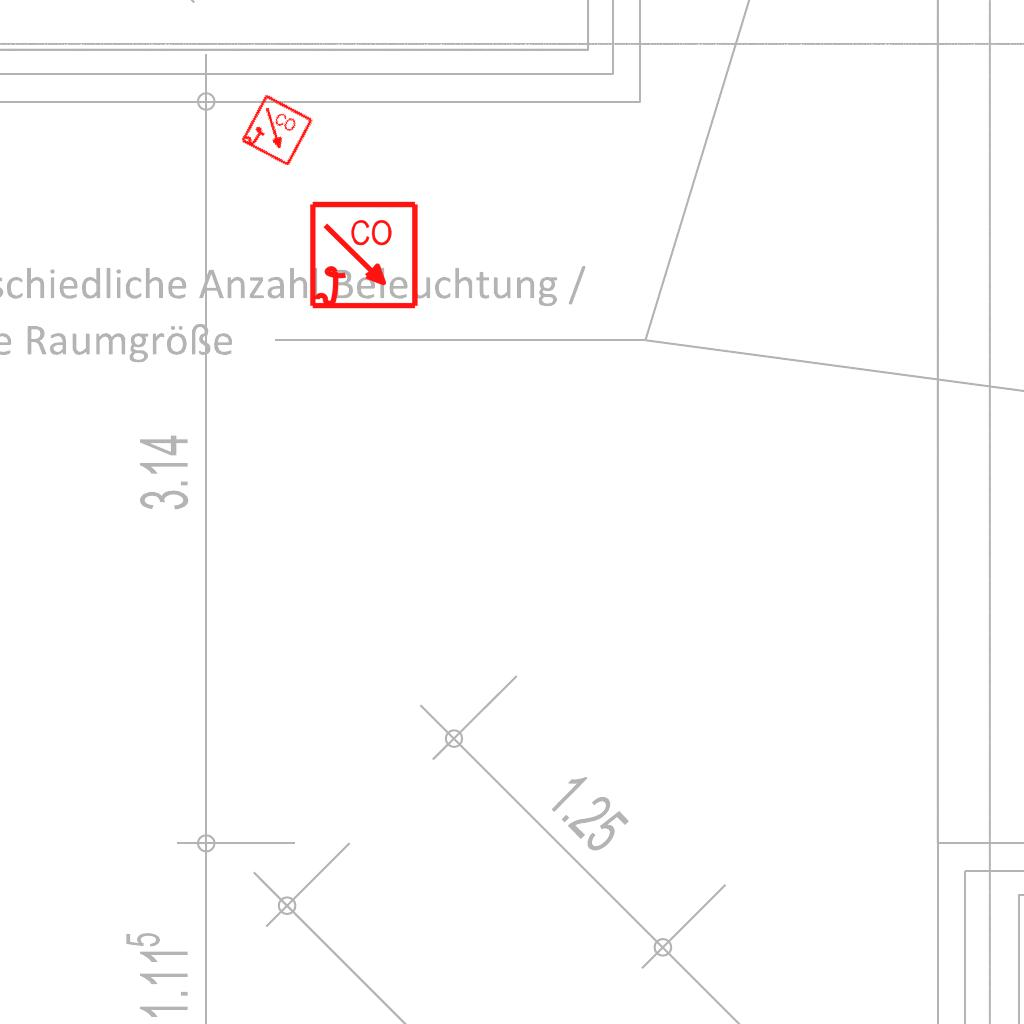ROA_Rauchmelder_optisch_mit_Signalgeber_(Sockelsirene): (308, 200, 421, 313), (239, 93, 315, 169)
